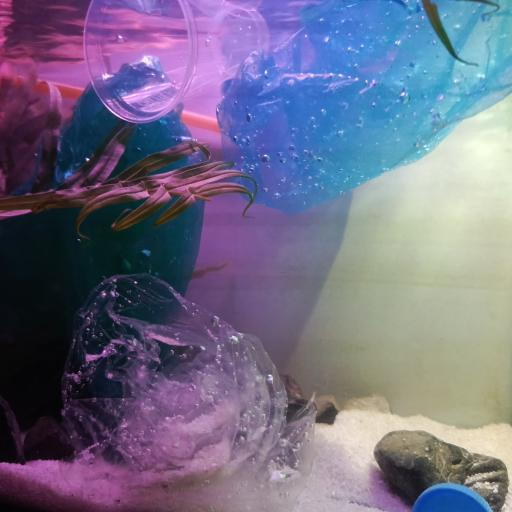bottle_cap: (414, 484, 493, 512)
plastic_bag: (0, 59, 208, 376), (217, 0, 512, 209), (62, 271, 317, 499)
plastic_cup: (83, 0, 275, 121)
plastic_straw: (14, 74, 217, 136)
